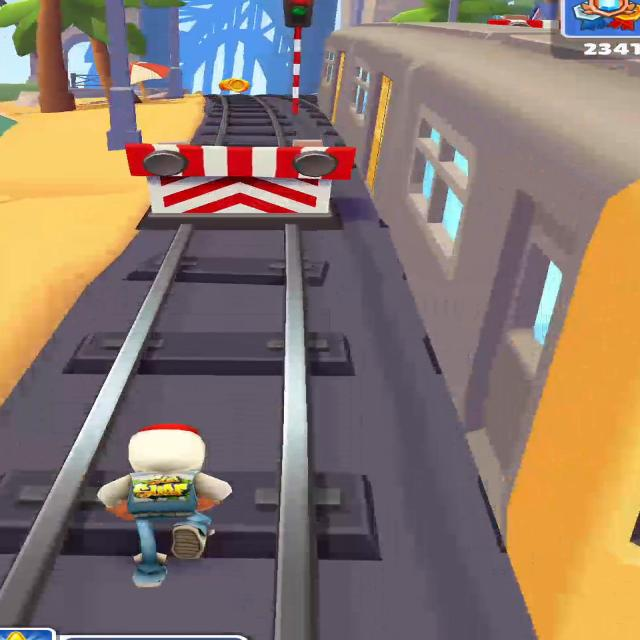roll blocker: (126, 143, 354, 228)
train: (343, 22, 640, 586)
